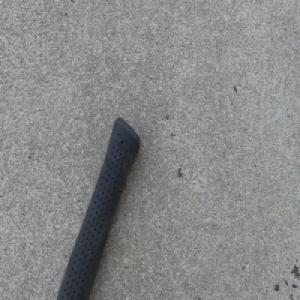Hammer: (52, 114, 141, 300)
